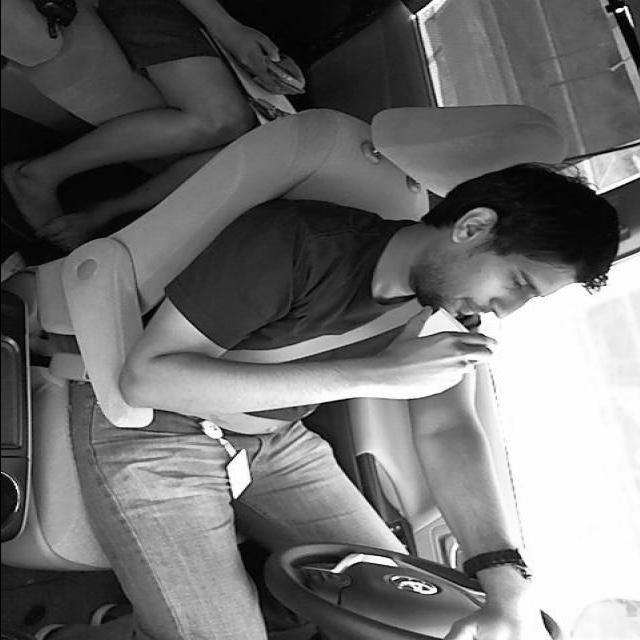drinking: (381, 301, 481, 398)
